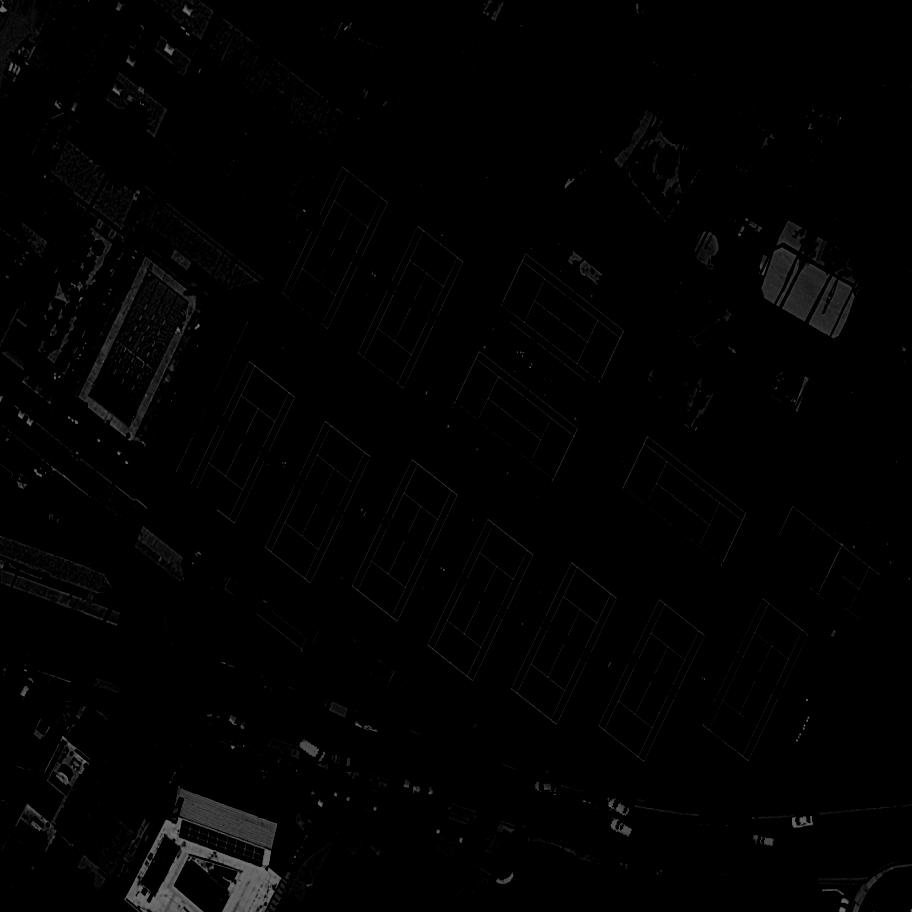large-vehicle: (298, 735, 330, 765), (323, 700, 352, 722), (294, 694, 323, 706)
small-vehicle: (258, 773, 291, 819), (769, 372, 801, 402), (633, 240, 657, 276), (127, 570, 151, 603), (327, 748, 357, 772), (608, 816, 637, 840), (17, 675, 40, 705), (382, 721, 412, 744), (417, 735, 447, 756), (147, 684, 174, 707), (607, 798, 634, 821), (354, 715, 383, 736), (234, 667, 261, 689), (578, 791, 605, 813), (19, 742, 48, 762), (261, 678, 287, 700), (226, 713, 251, 732), (724, 814, 749, 833), (1, 776, 28, 793), (806, 851, 830, 870), (390, 773, 414, 791), (847, 822, 871, 840), (752, 836, 776, 852), (697, 816, 722, 831), (511, 772, 535, 787), (889, 407, 911, 423), (203, 706, 224, 722), (476, 758, 501, 771), (413, 784, 437, 797), (792, 816, 814, 829), (536, 782, 559, 794)
